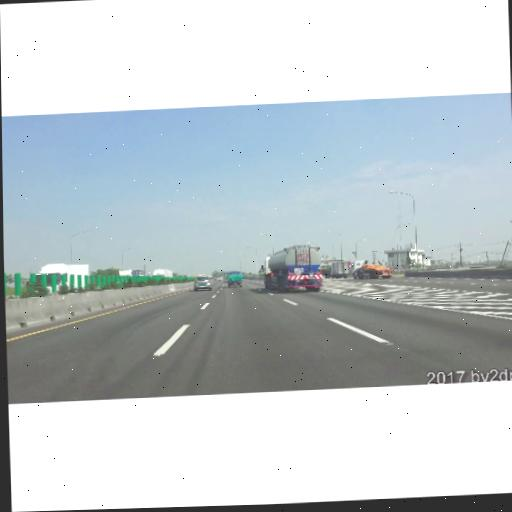Car: (261, 244, 324, 294), (352, 258, 393, 282), (330, 261, 349, 280), (227, 269, 243, 288), (194, 275, 211, 289)
